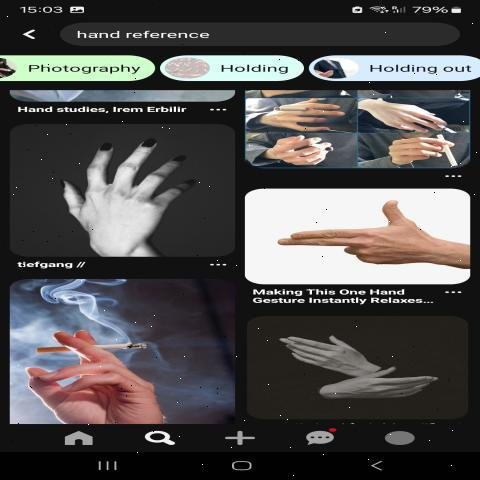Hands: (33, 121, 210, 245), (23, 319, 196, 426), (264, 191, 449, 275), (306, 366, 454, 405), (273, 324, 393, 372), (261, 99, 352, 131)
